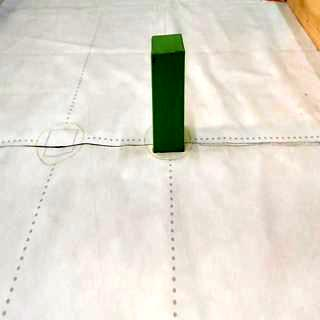greenbox: (152, 35, 185, 152)
